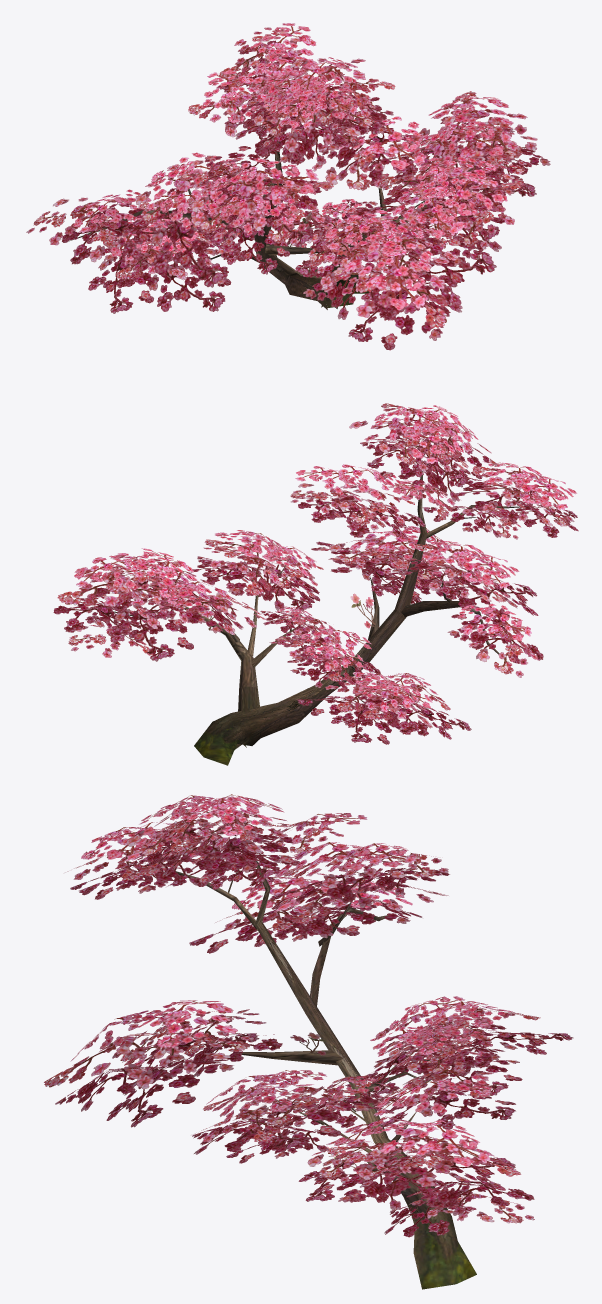
File: S_Tree_Red002_H4.FBX
3 renders of one model, top to bottom at view 1: azimuth 30°, elevation 25°; view 2: azimuth 150°, elevation 25°; view 3: azimuth 270°, elevation 25°, orthographic. The views are drawn at different scales.
Parts seen in each view (by area): view 1: S_Tree_Red002_H4_2, S_Tree_Red002_H4_1; view 2: S_Tree_Red002_H4_2, S_Tree_Red002_H4_1; view 3: S_Tree_Red002_H4_2, S_Tree_Red002_H4_1.
Part boxes in pixels (x1,y1,x2,y2): S_Tree_Red002_H4_2: [26, 23, 550, 350]; S_Tree_Red002_H4_1: [69, 105, 473, 309]; S_Tree_Red002_H4_2: [53, 403, 578, 744]; S_Tree_Red002_H4_1: [114, 454, 528, 765]; S_Tree_Red002_H4_2: [44, 794, 573, 1237]; S_Tree_Red002_H4_1: [175, 833, 476, 1289].
Bounding box in the file's own units: 1391 × 837 × 1058.
2 materials, 2 textured.
